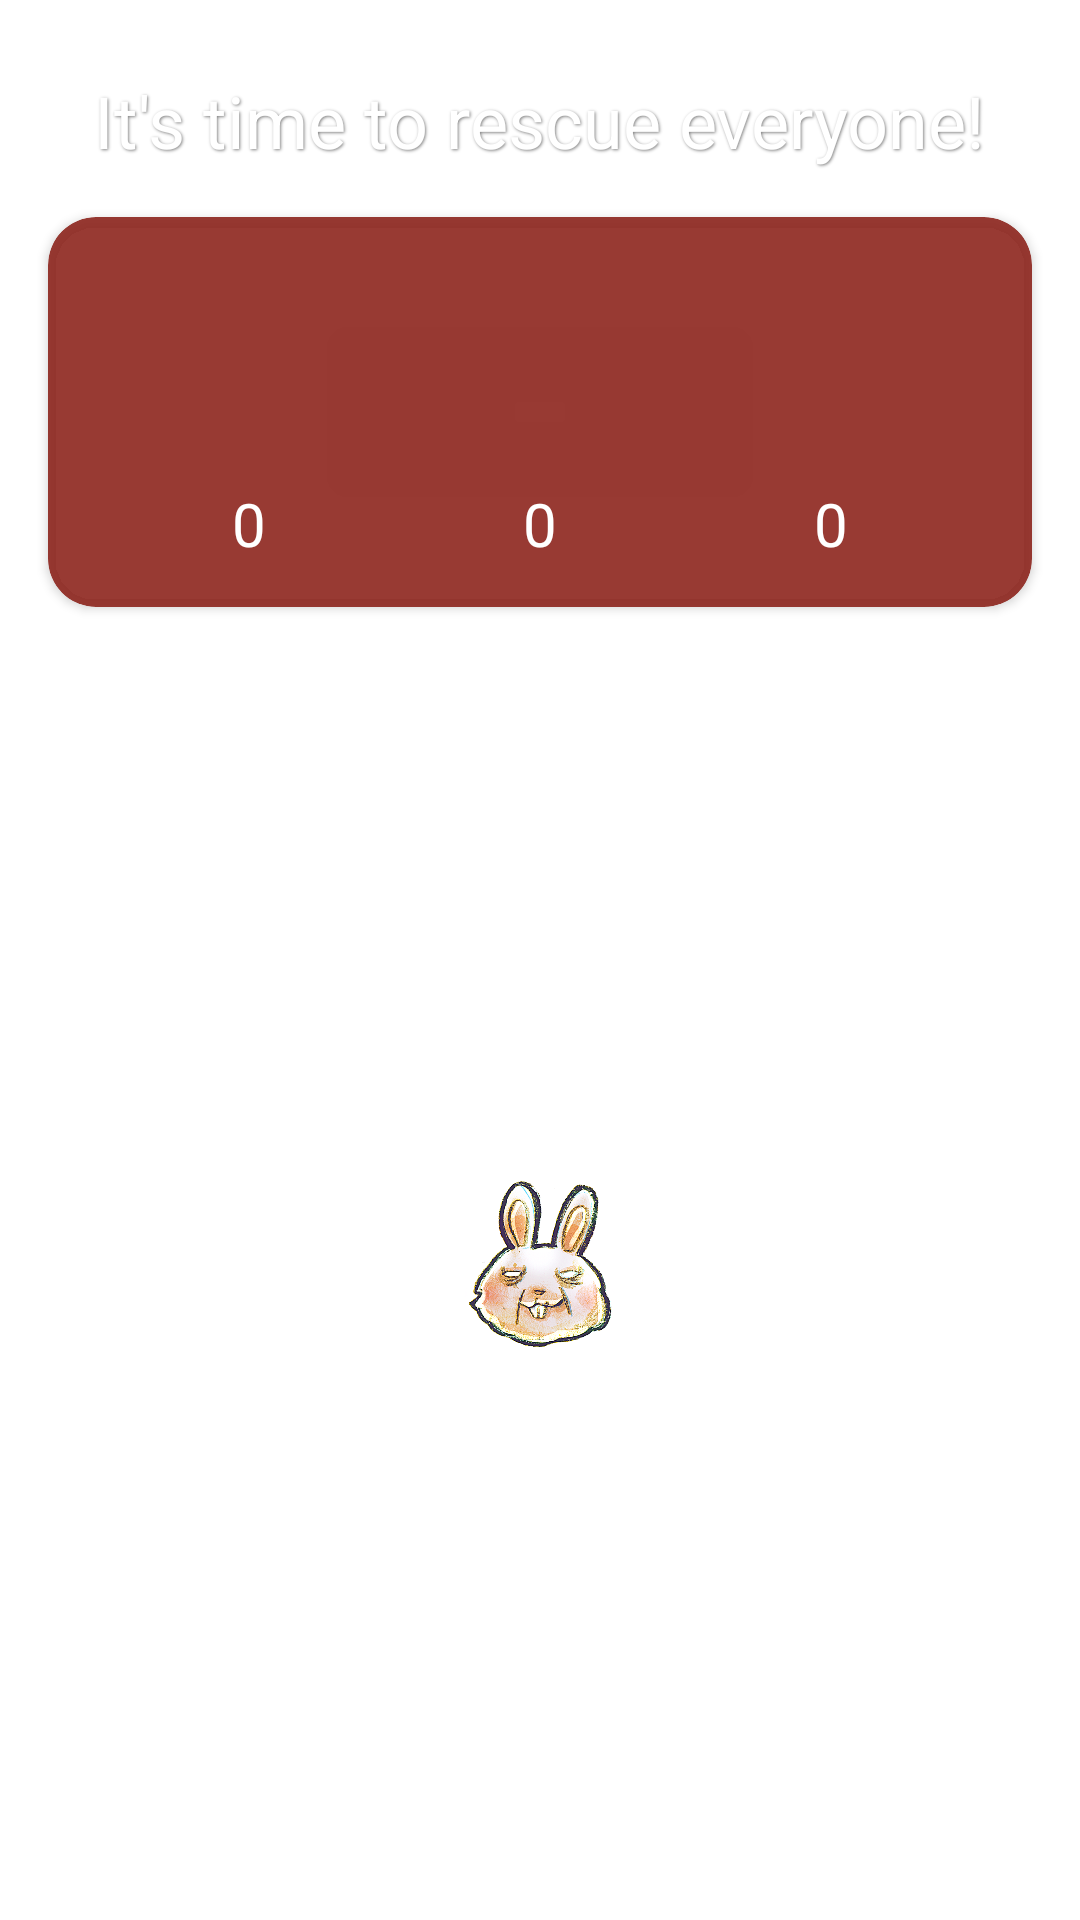

Icon click points for this 1080×1920 phone screenshot, format (x,y):
rabbit: (540,1264)
